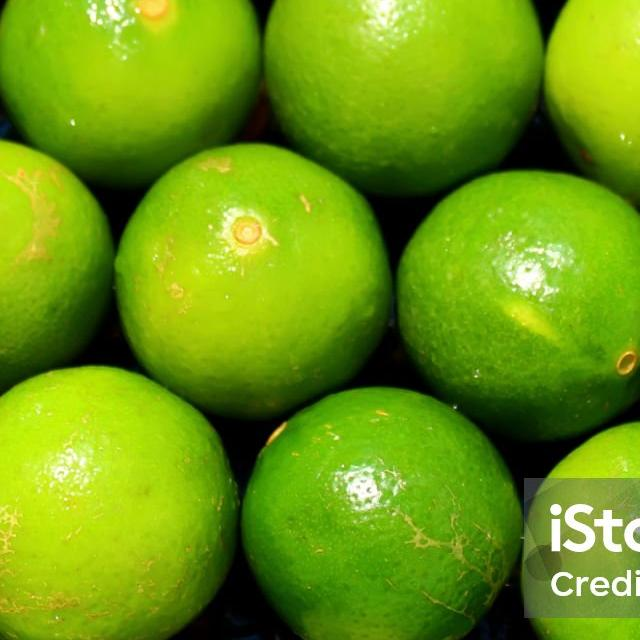lime: (0, 367, 242, 640), (0, 139, 115, 400)
